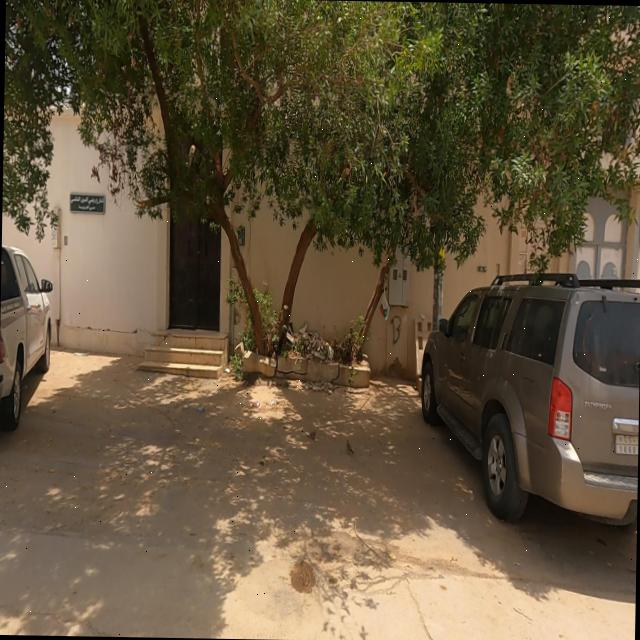Graffiti: (388, 316, 406, 347)
